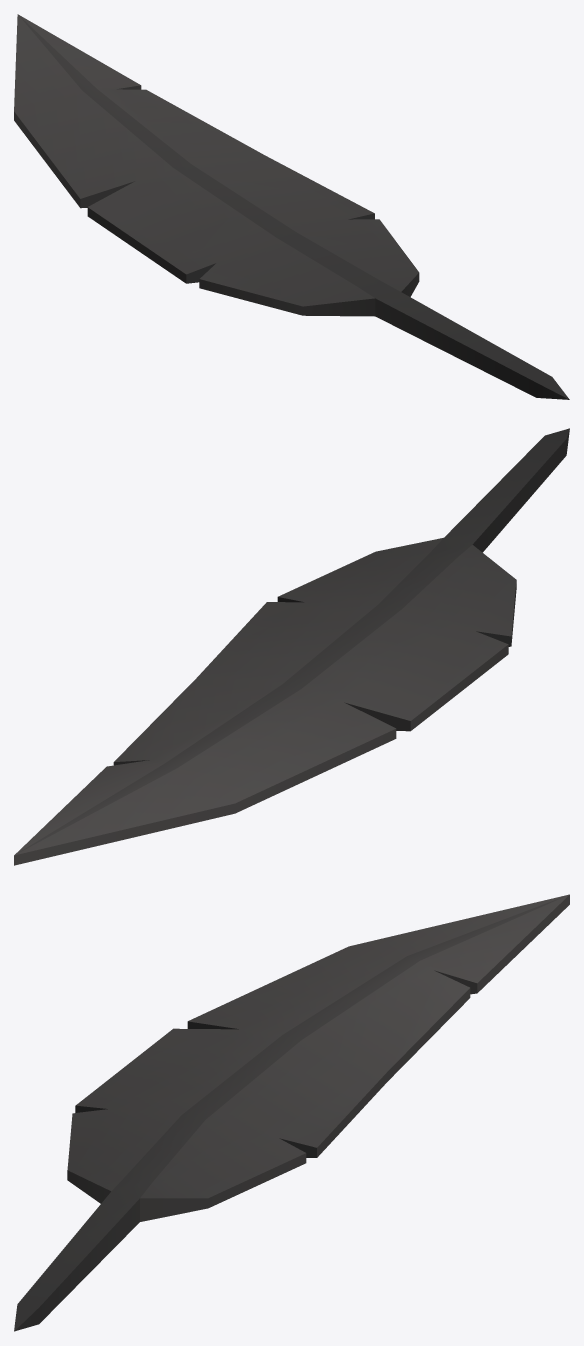
The model's file is Feather2.fbx.
3 views of the same model, one above another, from view 1: azimuth 30°, elevation 25°; view 2: azimuth 150°, elevation 25°; view 3: azimuth 330°, elevation 25° (orthographic). The views are drawn at different scales.
Parts seen in each view (by area): view 1: Feather2; view 2: Feather2; view 3: Feather2.
Boxes of the visible parts, x1,y1,x2,y2 form: Feather2: (14,14,569,399); Feather2: (14,428,569,865); Feather2: (14,894,569,1331).
Size of the model in its own units: 5.25 by 0.7807 by 23.02.
